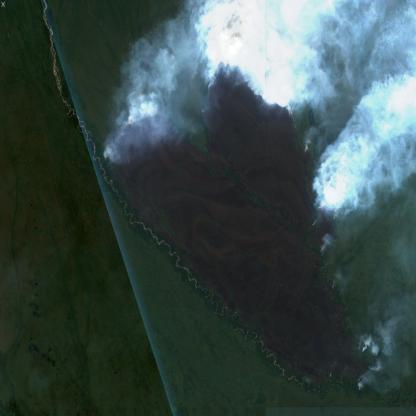fire: (203, 50, 301, 117), (100, 101, 160, 171), (312, 185, 344, 228)
